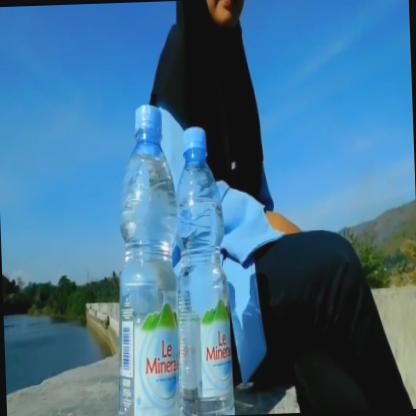plastic_bottles: (110, 101, 236, 416)
